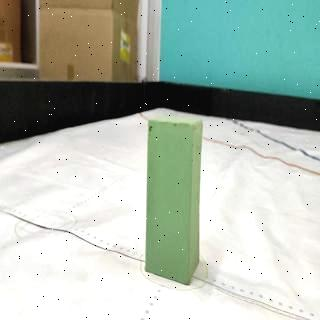greenbox: (144, 113, 206, 286)
